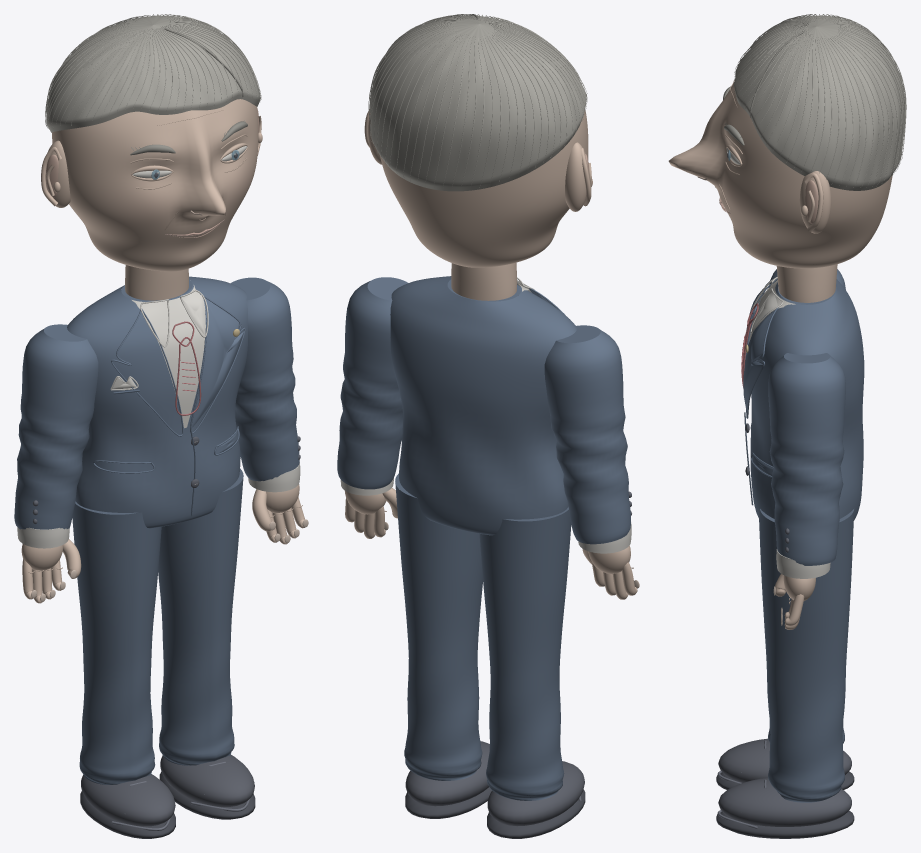
The model's file is george_h_w_bush_1990_v2.glb.
3 renders of one model, left to right at view 1: azimuth 30°, elevation 25°; view 2: azimuth 150°, elevation 25°; view 3: azimuth 270°, elevation 25°, orthographic. The views are drawn at different scales.
Parts seen in each view (by area): view 1: George H. W. Bush; view 2: George H. W. Bush; view 3: George H. W. Bush.
Boxes of the visible parts, <box> form: George H. W. Bush: <box>14,14,308,838</box>; George H. W. Bush: <box>337,14,639,838</box>; George H. W. Bush: <box>668,14,906,838</box>.
Size of the model in its own units: 1.8 by 4.76 by 1.31.
